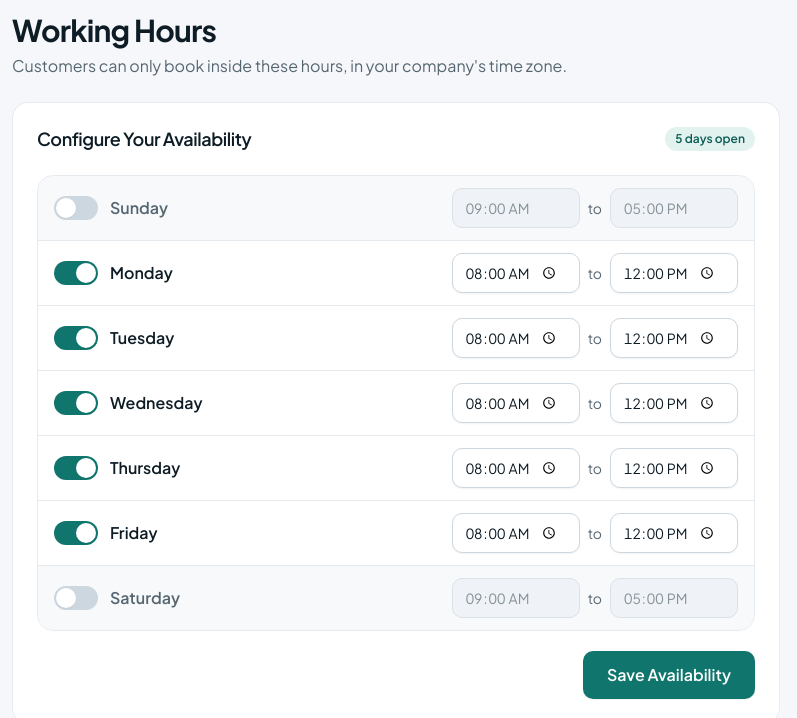
Test: AvailabilityPage › keeps the saved confirmation after the refetch that follows a successful save
Click the checkbox named "Sunday open": (76, 208) [54,196,98,220]
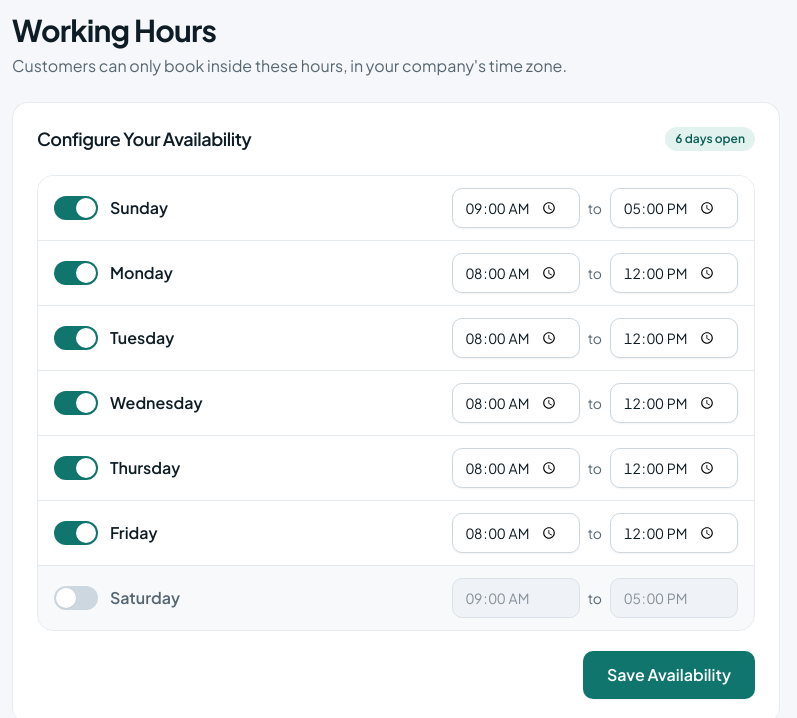
Click the button "Save Availability": (669, 675) [583,651,755,699]
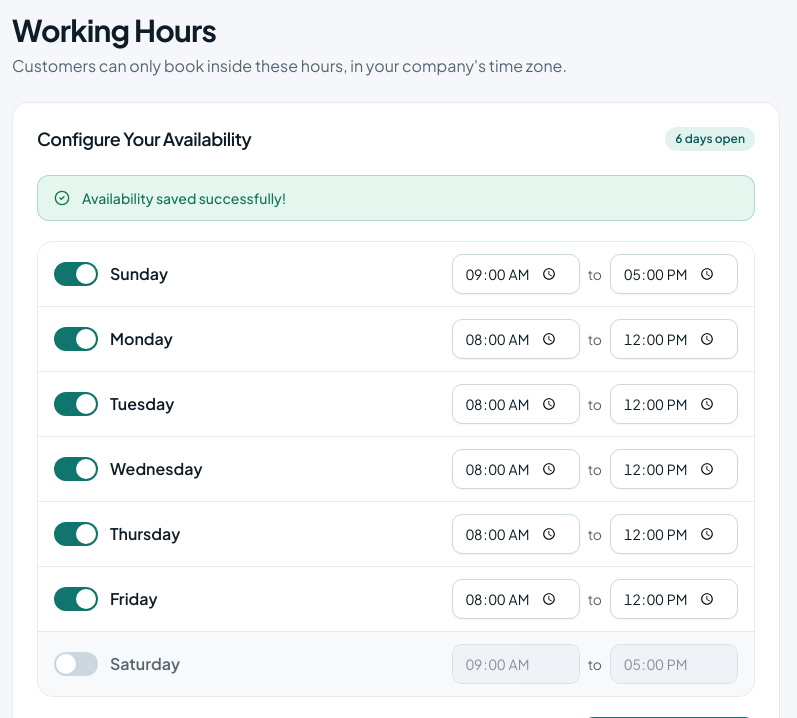
Check: the checkbox named "Sunday open" is checked, box [54,262,98,286]
Check: the text "Availability saved successfully!" is shown, box [82,188,286,208]
